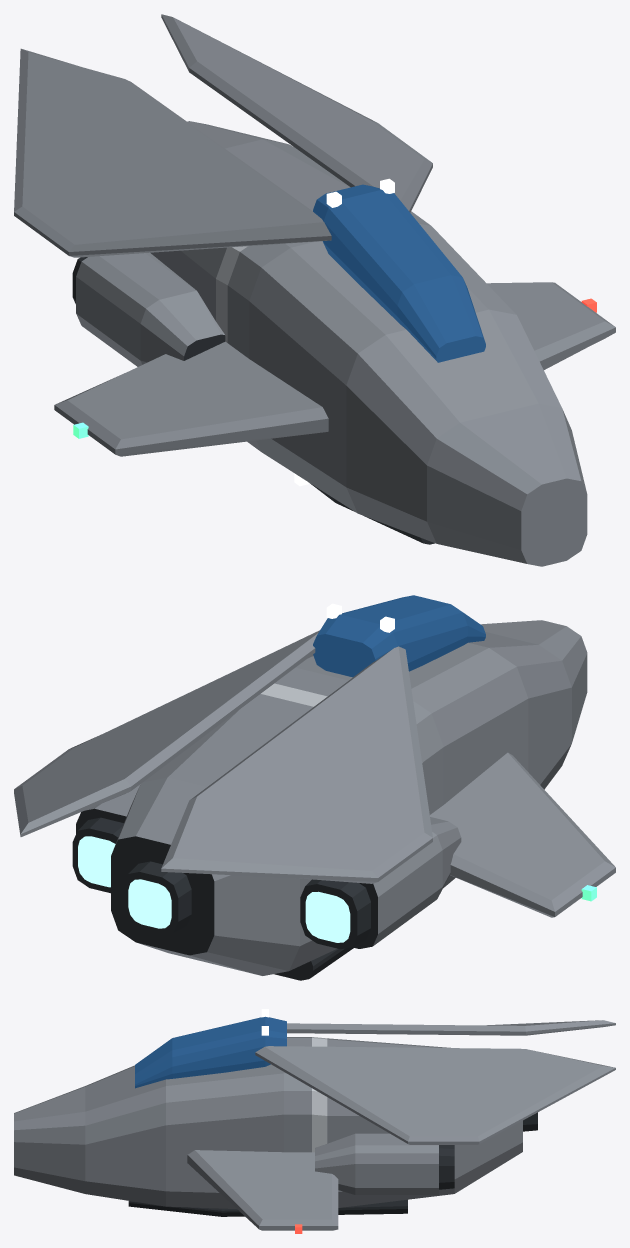
File: diamondback-scout.glb
3 renders of one model, top to bottom at view 1: azimuth 30°, elevation 25°; view 2: azimuth 150°, elevation 25°; view 3: azimuth 270°, elevation 25°, orthographic. The views are drawn at different scales.
Parts seen in each view (by area): view 1: diamondback-scout; view 2: diamondback-scout; view 3: diamondback-scout.
Boxes of the visible parts, x1,y1,x2,y2 form: diamondback-scout: (14,14,615,566); diamondback-scout: (14,595,615,980); diamondback-scout: (14,1009,615,1233).
Bounding box in the file's own units: 25.04 × 13.21 × 38.8.
